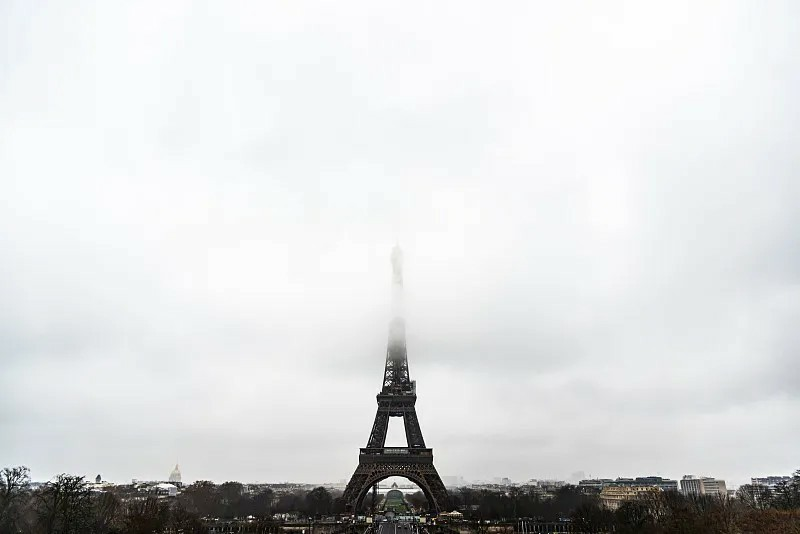Eiffel: (339, 236, 450, 513)
